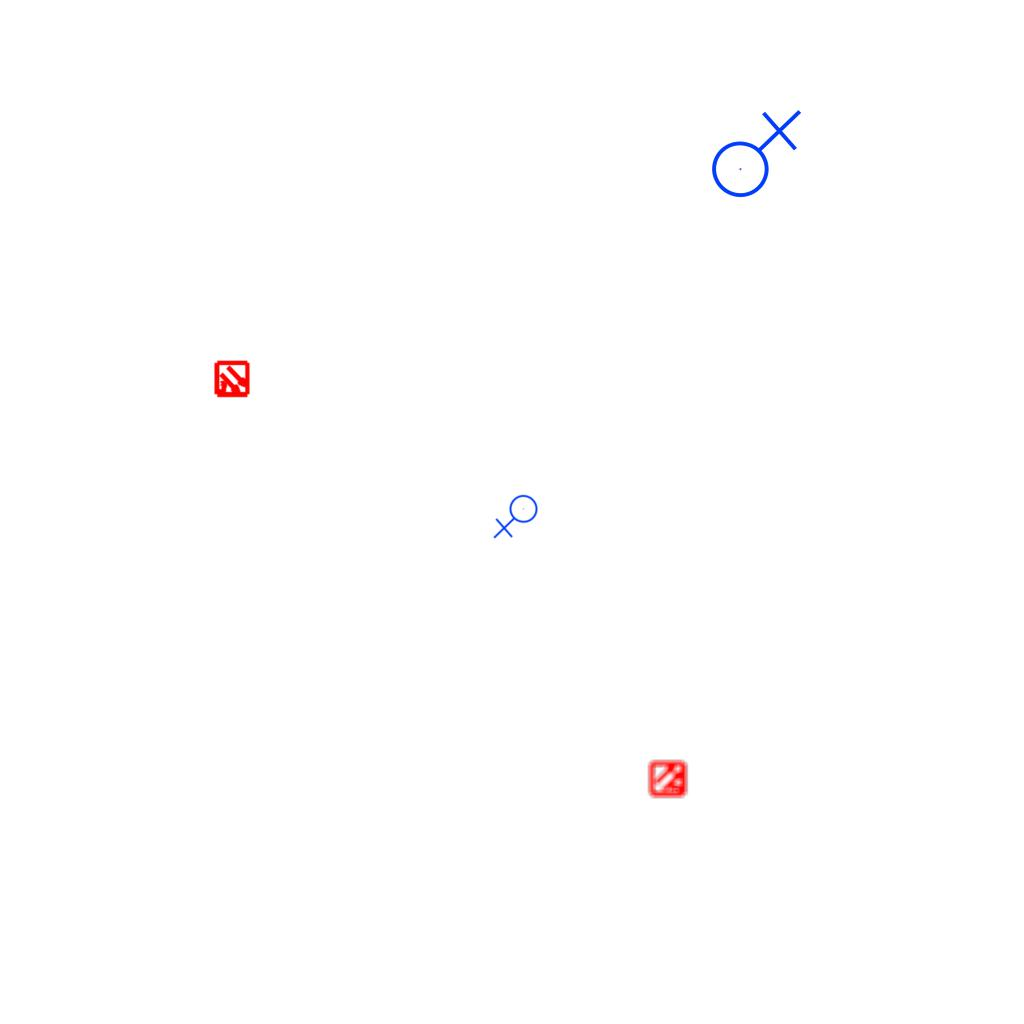Elektroanschluss_allgemein_230V_Geraeteanschlussdose_230V: (703, 105, 802, 199), (493, 494, 542, 541)
OT_Multisensormelder_(Kombination_RMO_WMD): (641, 751, 697, 807), (204, 352, 260, 408)
